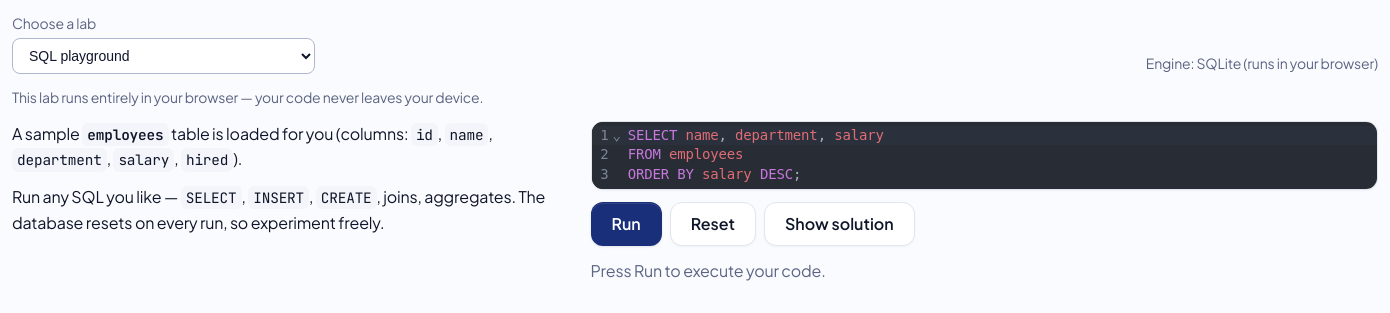
PracticeLab › shows the engine error when a run fails
Click the button "Run" at {"x": 626, "y": 224}, box top-left (590, 202), bottom-right (662, 246)
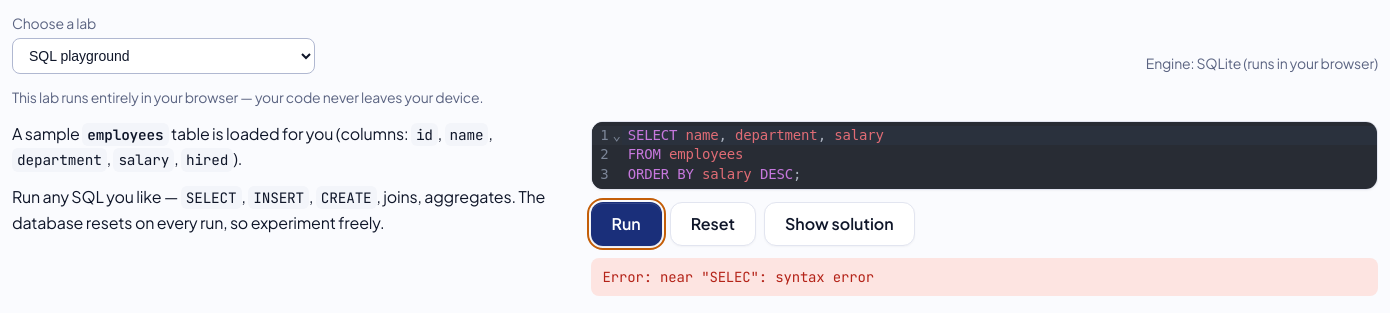
expect the message shows "syntax error": met, box top-left (660, 268), bottom-right (874, 286)
